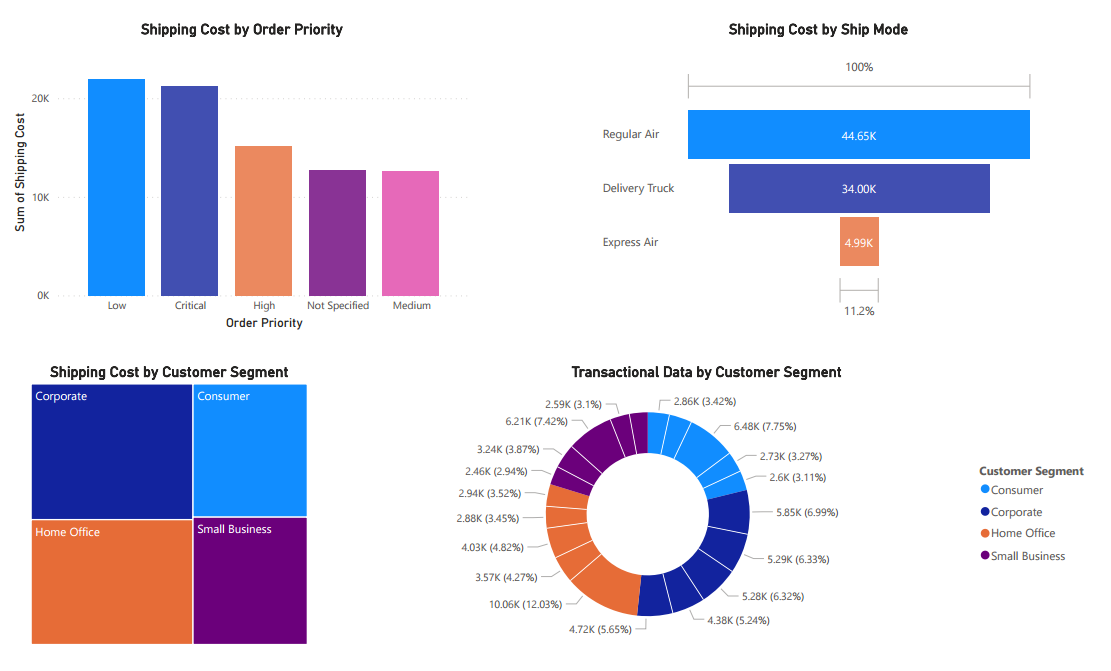

What the dashboard file says about the page in this screenshot:
{"tool":"powerbi","page":{"name":"Bottom Up Analysis","canvas":[1280,720],"ordinal":3},"visuals":[{"type":"columnChart","fields":{"Y":["Sum(Orders.Shipping Cost)"],"Category":["Orders.Order Priority"]},"box":[9.6,0,535.2,359.5],"z":0},{"type":"funnel","fields":{"Y":["Sum(Orders.Shipping Cost)"],"Category":["Orders.Ship Mode"]},"box":[544.8,0,441.9,365],"z":1000},{"type":"treemap","fields":{"Group":["Orders.Customer Segment"],"Values":["Sum(Orders.Shipping Cost)"]},"box":[30.2,392.5,326.6,328],"z":2000},{"type":"donutChart","fields":{"Category":["Orders.Customer Segment","Orders.Ship Mode","Orders.Order Date.Variation.Date Hierarchy.Year"],"Series":["Orders.Order Priority"],"Y":["Sum(Orders.Shipping Cost)"]},"box":[356.8,392.5,905.7,328],"z":3000}]}

Visuals, with their boxes on the page's 1280x720 design canvas (x1, y1, x2, y2). These are canvas units, not pixel positions in the 1111x671 screenshot, which may show the page scaled, cropped or inside an application window:
columnChart - Sum(Orders.Shipping Cost) x Orders.Order Priority: {"left": 10, "top": 0, "right": 545, "bottom": 360}
funnel - Sum(Orders.Shipping Cost) x Orders.Ship Mode: {"left": 545, "top": 0, "right": 987, "bottom": 365}
treemap - Orders.Customer Segment x Sum(Orders.Shipping Cost): {"left": 30, "top": 392, "right": 357, "bottom": 720}
donutChart - Orders.Customer Segment x Orders.Ship Mode: {"left": 357, "top": 392, "right": 1262, "bottom": 720}
